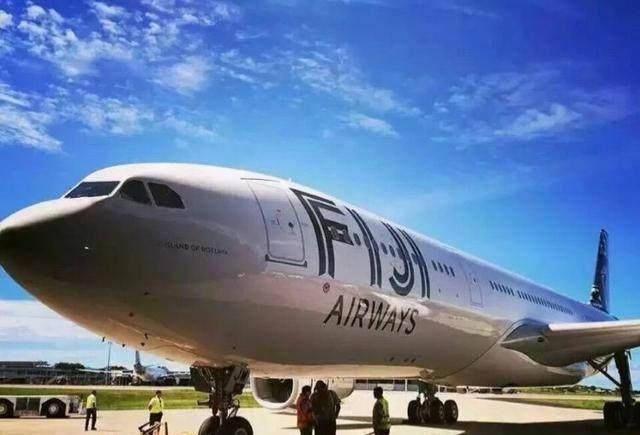airplane: (1, 174, 640, 386)
